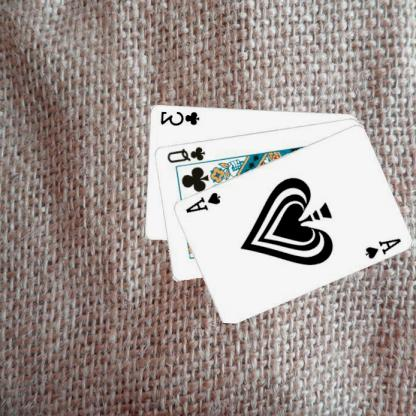3C: (159, 108, 202, 127)
AS: (364, 235, 404, 260), (184, 189, 223, 214)
QC: (166, 144, 208, 165)
